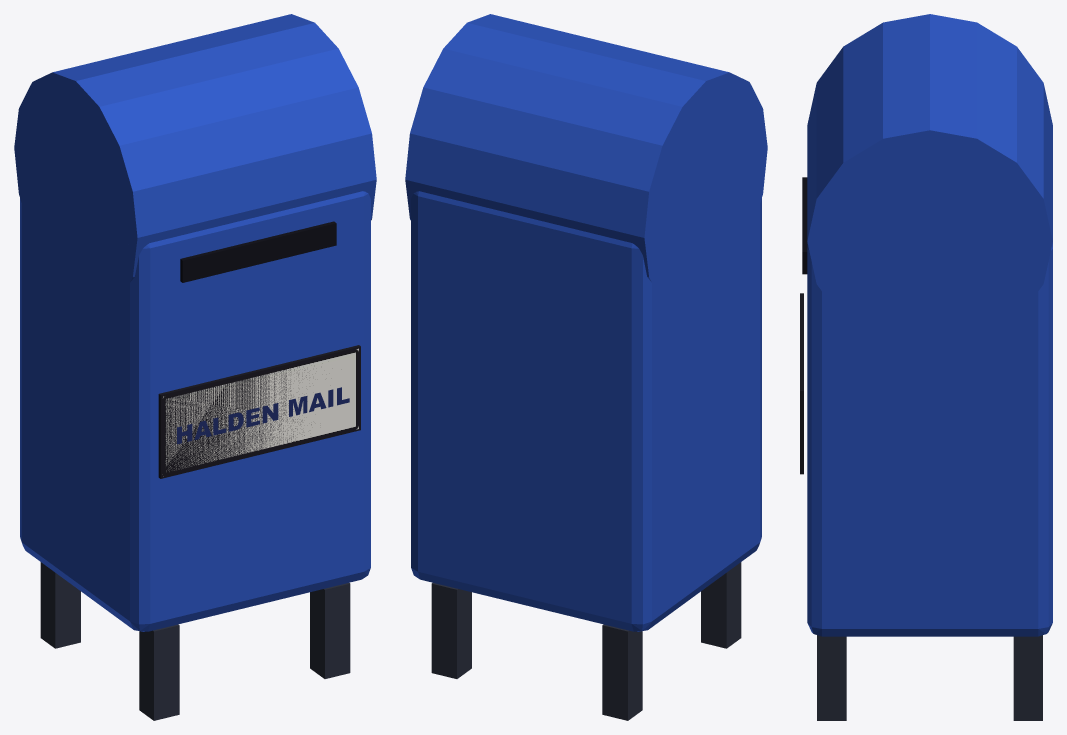
The model's file is mailbox.glb.
3 views of the same model, side by side, from view 1: azimuth 30°, elevation 25°; view 2: azimuth 150°, elevation 25°; view 3: azimuth 270°, elevation 25° (orthographic).
Visible parts, largest first — view 1: mailbox; view 2: mailbox; view 3: mailbox.
Part boxes in pixels (x1,y1,x2,y2): mailbox: (14,14,376,720); mailbox: (405,14,767,720); mailbox: (800,14,1052,720).
Bounding box in the file's own units: 0.56 × 1.35 × 0.523.
Materials: 6 (1 with a texture image).
